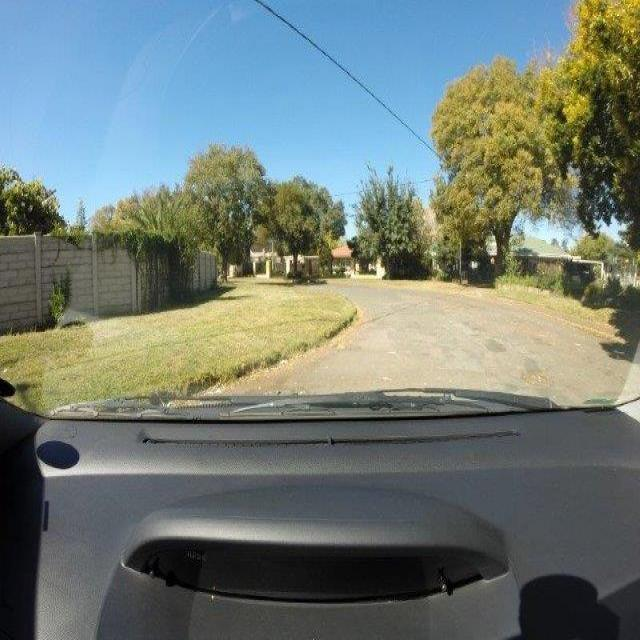lubang: (518, 364, 549, 383)
